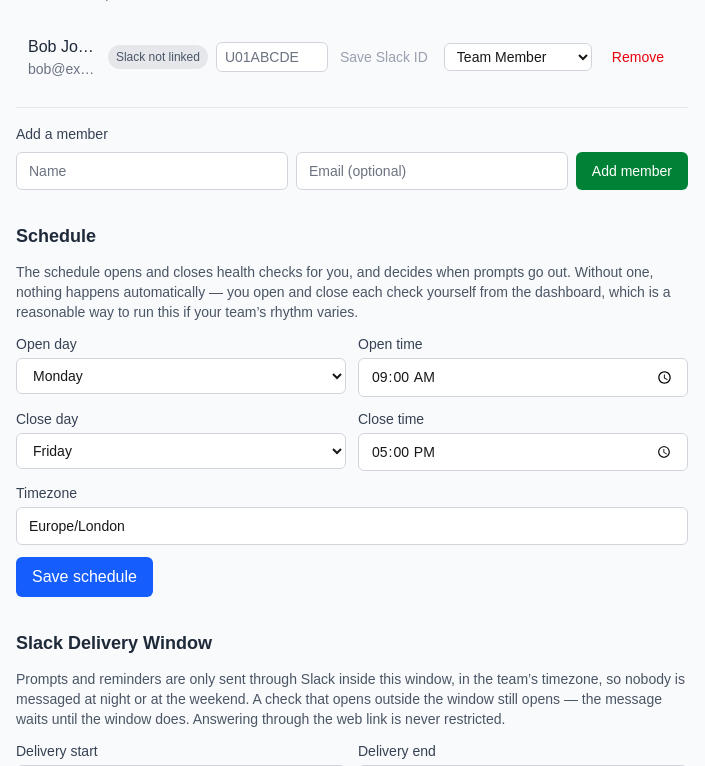
Scenario: Team Settings Page › Schedule Section (Req 3.1) › allows saving schedule changes
(page scrolled)
Select "Tuesday" in the dropdown labelled "Open day" at (181, 376), box [16,358,346,394]
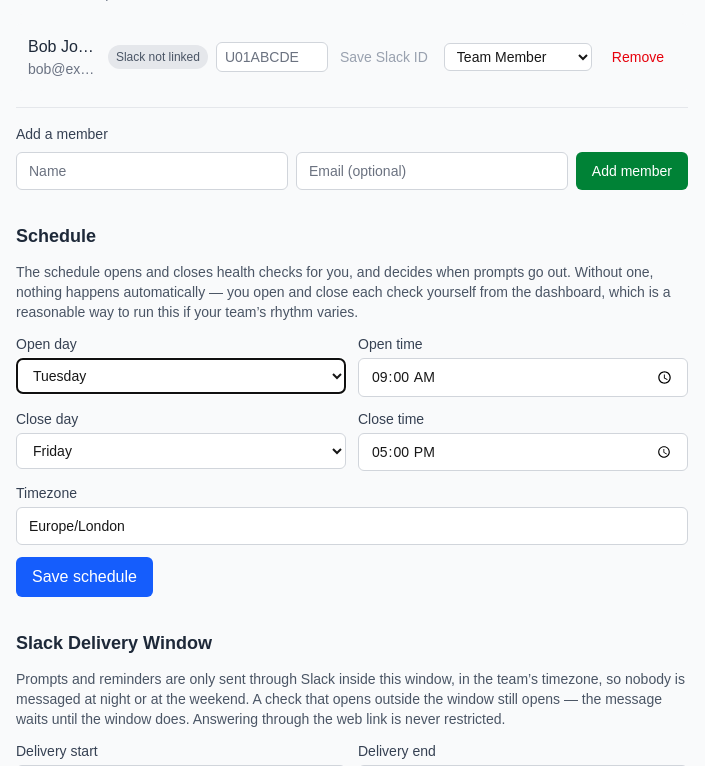
Click the button "Save schedule" at (84, 577), box [16,557,153,597]
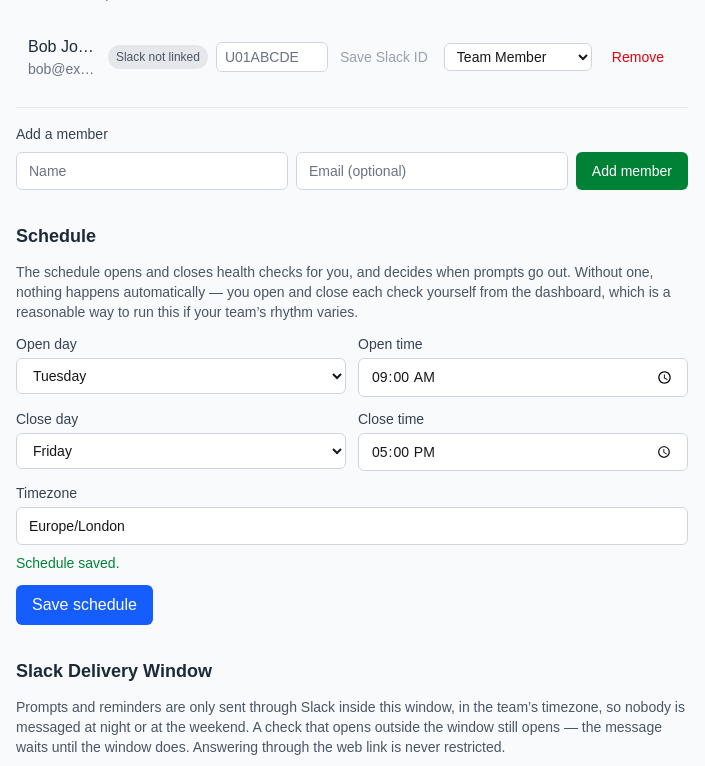
Result: the text "Schedule saved." is shown at [16,555,120,571]
